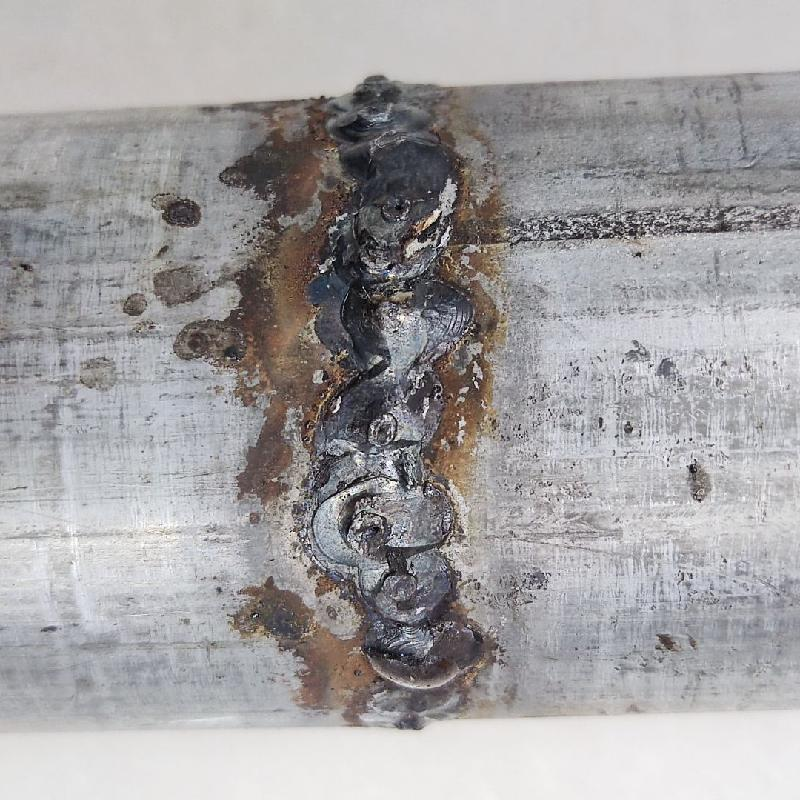Weld: (353, 633, 483, 695)
wrong_size: (320, 69, 464, 627)
